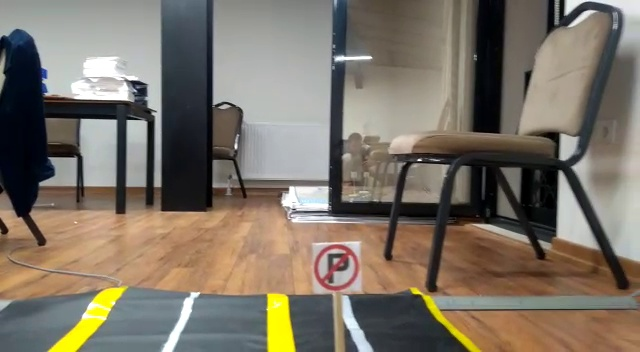park_yapilmaz: (311, 240, 364, 295)
